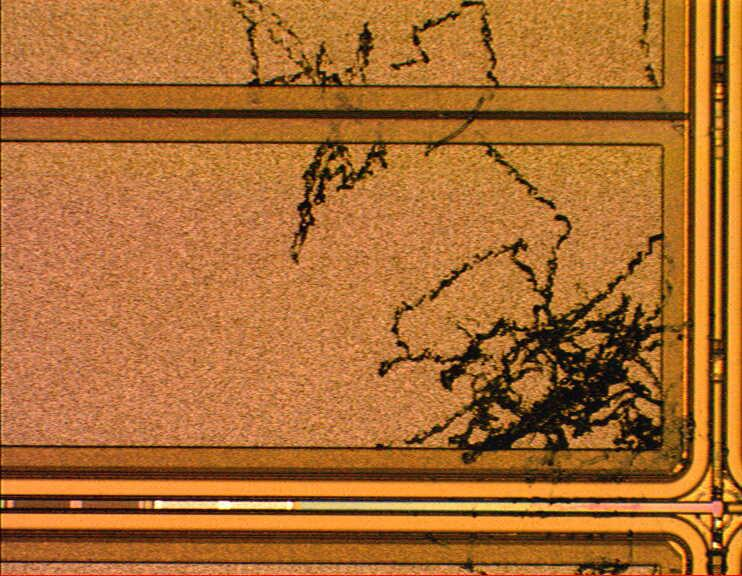SCRATCH: (226, 1, 705, 460)
